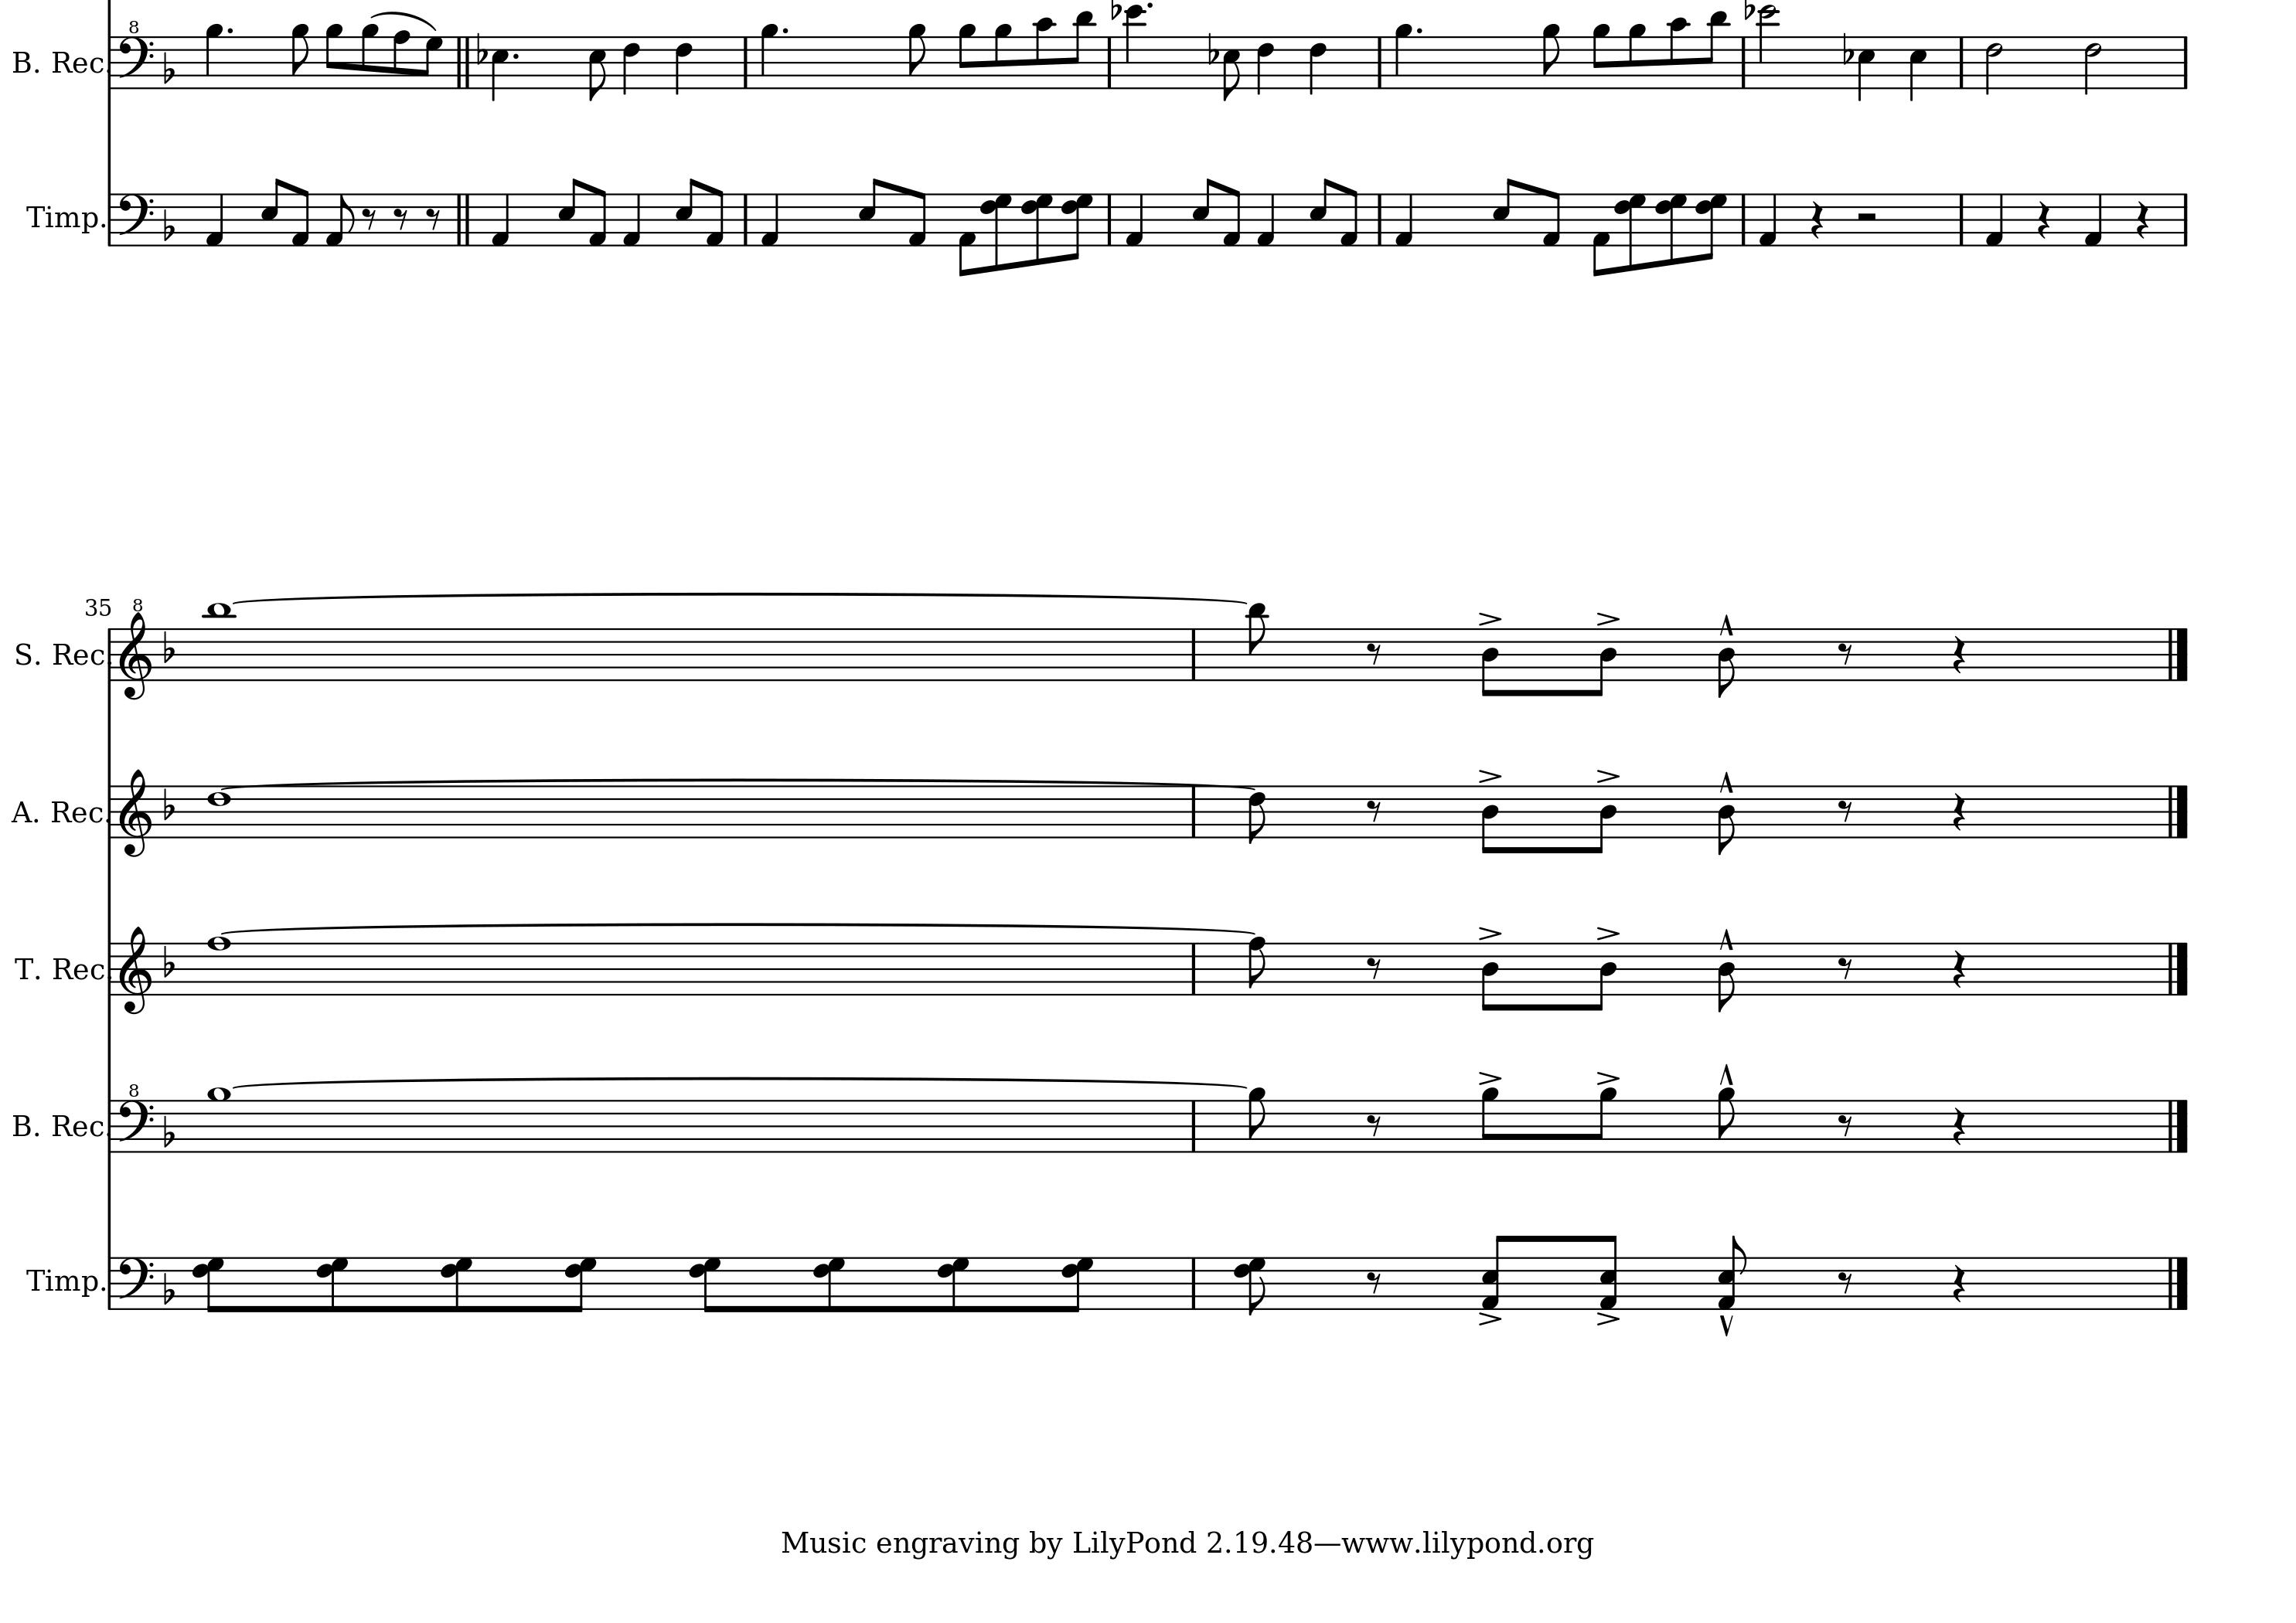1_11: (202, 599, 234, 683)
1_6: (206, 785, 232, 840)
1_8: (206, 934, 232, 998)
1_9: (206, 1086, 232, 1152)
2_12: (1755, 2, 1778, 90)
2_6: (2083, 35, 2103, 97), (1983, 35, 2003, 95)
3: (84, 595, 98, 618)
4_1: (1983, 191, 2004, 248), (204, 193, 225, 248), (490, 193, 511, 248), (759, 193, 780, 248), (1393, 193, 1414, 248), (2082, 193, 2103, 248), (1757, 193, 1778, 246), (1256, 191, 1275, 248), (622, 193, 641, 248), (1124, 193, 1144, 246)
4_12: (1123, 5, 1145, 90)
4_5: (1857, 33, 1876, 104), (490, 33, 509, 102), (1908, 33, 1927, 102)
4_6: (673, 33, 694, 97), (1307, 33, 1328, 97), (1256, 33, 1275, 97), (622, 33, 639, 97)
4_9: (204, 21, 225, 90), (759, 21, 780, 90), (1393, 21, 1412, 90)
5: (98, 595, 112, 618)
8_1: (956, 191, 977, 278), (323, 191, 355, 246), (1590, 191, 1609, 278), (1541, 186, 1562, 248), (906, 188, 928, 248), (290, 186, 309, 248), (587, 186, 606, 248), (704, 186, 724, 248), (1221, 186, 1240, 248), (1339, 186, 1358, 248)
8_10: (1033, 16, 1056, 90), (1667, 16, 1690, 90)
8_11: (1068, 9, 1096, 90), (1702, 9, 1730, 90), (1245, 601, 1268, 683)
8_1_5: (1716, 1235, 1748, 1312), (1481, 1235, 1511, 1310), (1599, 1235, 1620, 1314)
8_4: (1592, 625, 1620, 697), (1592, 783, 1618, 855), (1592, 940, 1618, 1012), (1479, 783, 1500, 855), (1716, 629, 1737, 699), (1716, 943, 1737, 1013), (1481, 625, 1500, 697), (1481, 940, 1500, 1012), (1716, 787, 1736, 857)
8_5: (260, 176, 285, 248), (673, 176, 697, 248), (857, 176, 882, 248), (1491, 176, 1516, 248), (1191, 176, 1216, 246), (557, 176, 580, 246), (1309, 176, 1332, 246), (587, 33, 606, 102), (1221, 33, 1240, 102)
8_6: (1247, 783, 1267, 843)
8_6_7: (980, 191, 1014, 272), (1614, 191, 1648, 272), (1021, 193, 1056, 267), (1059, 193, 1096, 262), (1657, 191, 1690, 267), (1695, 191, 1729, 262), (191, 1256, 225, 1314), (316, 1256, 350, 1314), (564, 1256, 597, 1314), (689, 1256, 722, 1314), (813, 1254, 847, 1312), (938, 1256, 971, 1314), (1061, 1256, 1094, 1314), (1233, 1256, 1267, 1314), (439, 1254, 471, 1312)
8_7: (420, 33, 444, 90)
8_8: (392, 28, 411, 90), (1247, 934, 1267, 996)
8_9: (1592, 1086, 1618, 1152), (1715, 1087, 1739, 1154), (1247, 1086, 1268, 1154), (1479, 1086, 1500, 1154), (290, 23, 311, 90), (323, 23, 344, 90), (1541, 23, 1562, 90), (908, 21, 928, 90), (957, 21, 977, 90), (993, 21, 1012, 90), (1592, 21, 1611, 90), (360, 23, 379, 90), (1627, 23, 1646, 90)
Accent_above: (1476, 1310, 1504, 1326), (1593, 1310, 1621, 1326), (1477, 610, 1502, 627), (1477, 766, 1502, 783), (1477, 924, 1502, 940), (1477, 1070, 1502, 1086), (1597, 768, 1620, 783), (1597, 1070, 1620, 1086), (1595, 611, 1620, 625), (1595, 926, 1620, 940)
Double_barline: (451, 193, 473, 246), (453, 35, 473, 88)
Fclef: (116, 191, 155, 248), (118, 1254, 155, 1310)
Final_barline: (2161, 940, 2189, 996), (2162, 783, 2191, 838), (2162, 1098, 2191, 1152), (2161, 1256, 2189, 1310), (2162, 625, 2189, 682)
Flat: (162, 49, 176, 86), (162, 1270, 176, 1307), (474, 30, 488, 65), (162, 207, 176, 242), (1841, 30, 1853, 65), (162, 629, 174, 664), (162, 785, 174, 820), (162, 943, 174, 978), (162, 1114, 174, 1149), (1207, 32, 1219, 65), (1108, 0, 1123, 19), (1743, 0, 1755, 19)
Gclef: (118, 768, 153, 859), (118, 924, 153, 1015)
High_Fclef: (116, 19, 155, 90), (116, 1082, 155, 1152)
High_Gclef: (118, 595, 153, 701)
Marcato_above: (1716, 613, 1736, 638), (1716, 769, 1736, 794), (1716, 927, 1736, 952), (1716, 1063, 1736, 1086), (1716, 1312, 1736, 1333)
Rec: (49, 49, 105, 74), (49, 641, 105, 666), (49, 956, 105, 980), (49, 797, 104, 822), (49, 1112, 104, 1136)
Rests2: (1853, 209, 1878, 225)
Rests4: (1809, 198, 1825, 239), (2036, 200, 2052, 241), (2134, 200, 2150, 241), (1952, 634, 1967, 674), (1952, 790, 1967, 831), (1952, 949, 1967, 989), (1952, 1107, 1967, 1147), (1952, 1263, 1967, 1303)
Rests8: (1363, 1270, 1384, 1295), (1363, 956, 1383, 980), (1836, 1112, 1853, 1138), (1836, 1268, 1853, 1295), (1365, 641, 1383, 666), (1836, 641, 1853, 666), (1365, 797, 1383, 822), (1836, 797, 1853, 822), (1836, 956, 1853, 980), (1365, 1114, 1383, 1138), (425, 206, 441, 230), (362, 206, 376, 230), (393, 206, 408, 230)
Single_barline: (104, 941, 121, 994), (104, 627, 119, 682), (1953, 35, 1969, 88), (2177, 35, 2192, 88), (104, 785, 119, 838), (1184, 785, 1200, 838), (105, 1100, 121, 1152), (1184, 1100, 1200, 1152), (104, 1256, 119, 1309), (738, 193, 754, 244), (1184, 629, 1200, 680), (1184, 943, 1200, 994), (104, 35, 118, 90), (1374, 35, 1388, 88), (1953, 193, 1967, 246), (2178, 193, 2192, 246), (1186, 1256, 1200, 1309), (1372, 193, 1386, 244), (740, 37, 754, 86), (1737, 35, 1750, 88), (1737, 193, 1750, 246), (1103, 37, 1116, 88), (104, 193, 116, 244), (1103, 193, 1116, 244)
Slur: (369, 11, 439, 32)
Timp: (21, 1266, 100, 1302), (25, 202, 97, 237)
dot: (509, 51, 520, 61), (1144, 0, 1154, 9), (225, 25, 234, 35), (780, 26, 791, 35), (1414, 26, 1425, 35)
